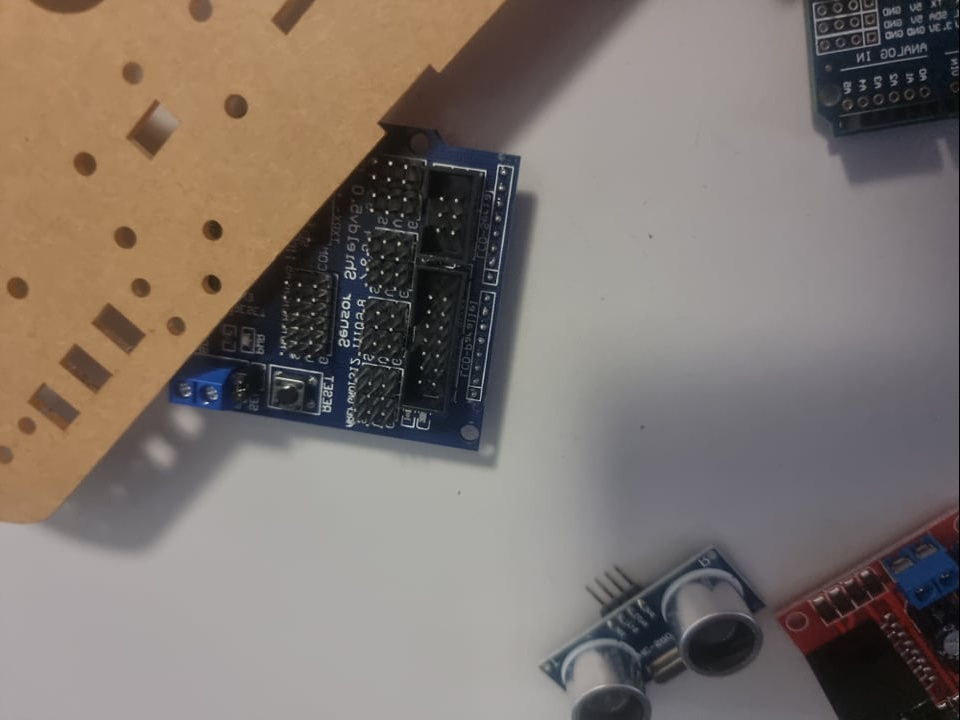5V EXPANSION: (160, 112, 526, 468)
MOTOR: (783, 503, 960, 720)
SENSOR: (534, 547, 764, 720)
